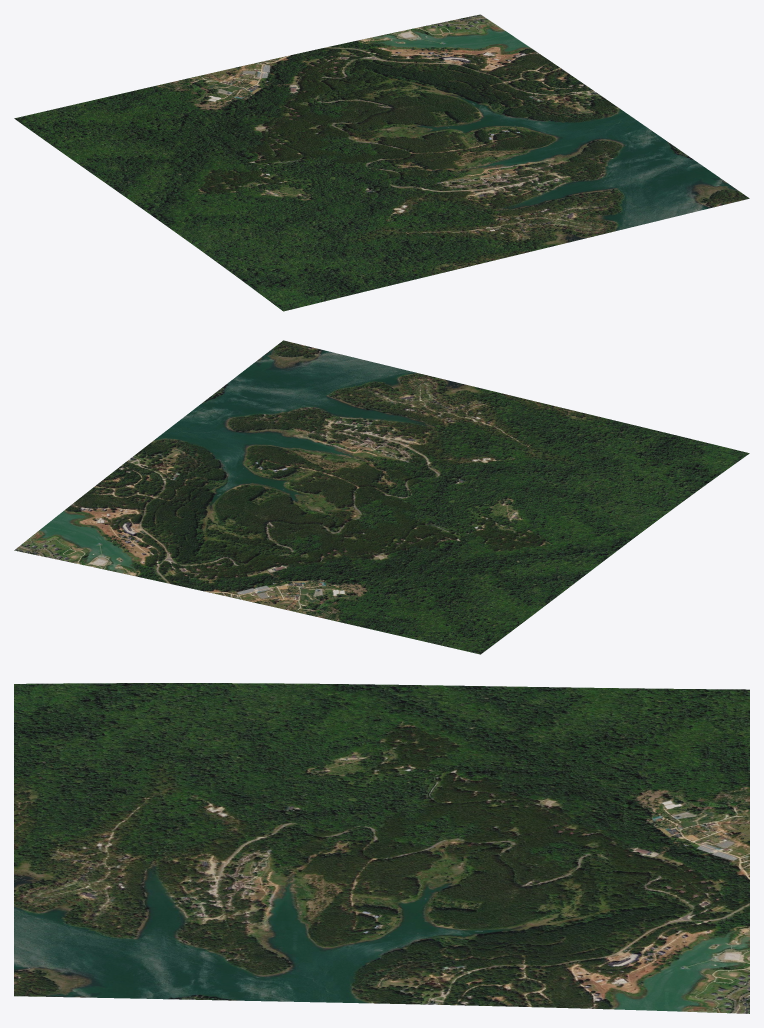
The model's file is terrain_real_T_W02_S03.glb.
3 views of the same model, one above another, from view 1: azimuth 30°, elevation 25°; view 2: azimuth 150°, elevation 25°; view 3: azimuth 270°, elevation 25° (orthographic). The views are drawn at different scales.
Visible parts, largest first — view 1: TerrainReal_T_W02_S03; view 2: TerrainReal_T_W02_S03; view 3: TerrainReal_T_W02_S03.
Part boxes in pixels (x1,y1,x2,y2): TerrainReal_T_W02_S03: (14, 14, 749, 311); TerrainReal_T_W02_S03: (14, 340, 749, 654); TerrainReal_T_W02_S03: (14, 683, 749, 1013).
Bounding box in the file's own units: 2000 × 62.5 × 2000.
1 material, 1 textured.
